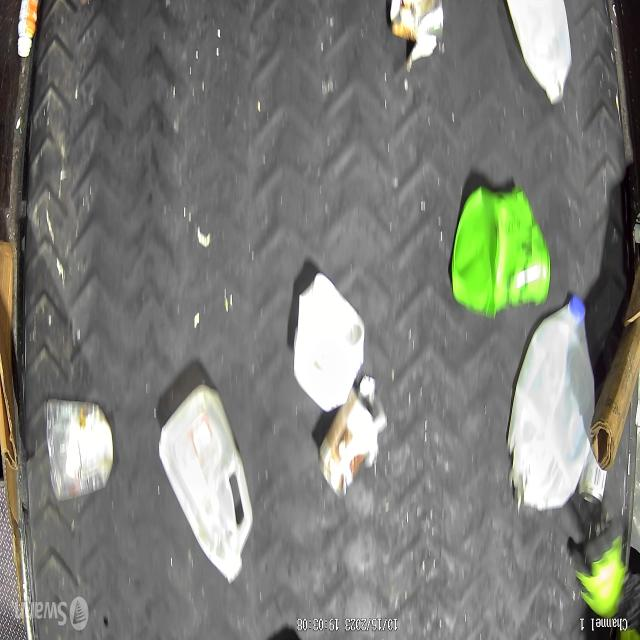can: (318, 376, 386, 499), (390, 0, 444, 56), (579, 455, 608, 507)
milk_jug: (158, 383, 255, 587), (506, 298, 596, 511), (292, 273, 366, 413), (505, 0, 572, 109)
non_white_jug: (452, 183, 550, 317)
